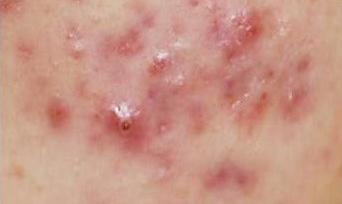acne_scars: (194, 153, 256, 201)
cystic: (99, 104, 148, 159)
papular: (225, 15, 274, 54), (284, 81, 315, 115), (145, 49, 170, 78)
